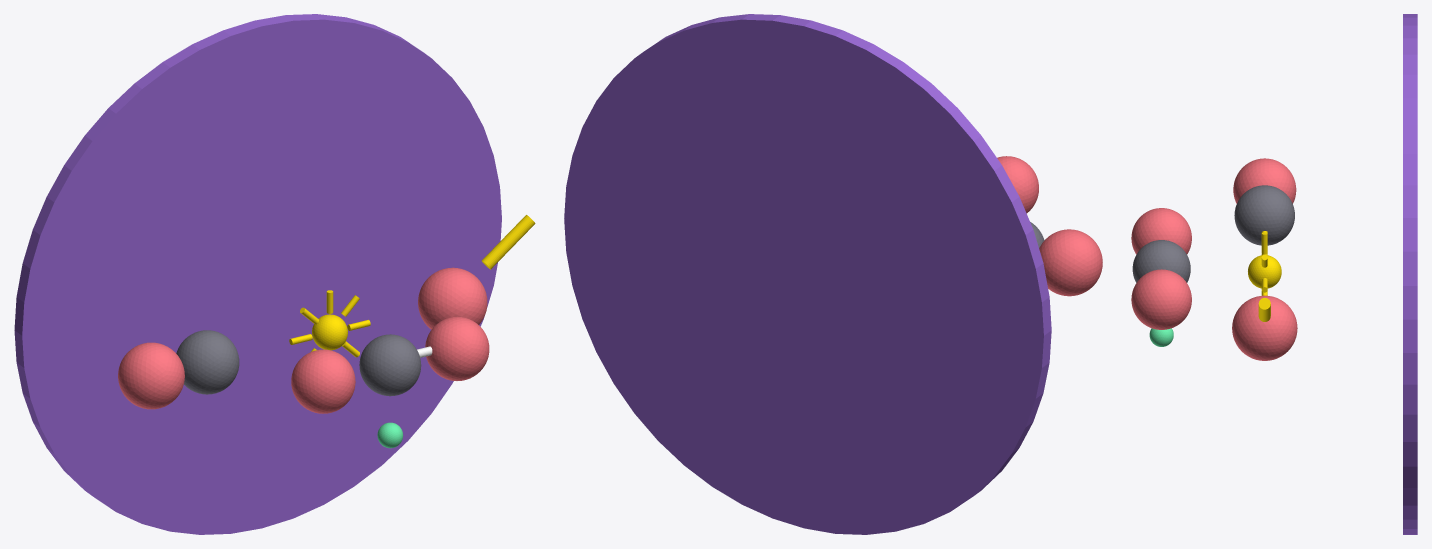
File: colisao_efetiva_CORRIGIDA_Q_LAB.glb
3 renders of one model, left to right at view 1: azimuth 30°, elevation 25°; view 2: azimuth 150°, elevation 25°; view 3: azimuth 270°, elevation 25°, orthographic. The views are drawn at different scales.
Parts seen in each view (by area): view 1: base, CO_O, produto_O1, produto_O2, O_incidente, CO_C, produto_C, energia_colisao, movimento; view 2: base, CO_O, produto_O1; view 3: base, O_incidente, produto_O2, CO_C, produto_O1, CO_O, produto_C, energia_colisao, reacao_ocorreu.
Part boxes in pixels (box(x1,y1,x2,y2)): base: box(14, 14, 501, 534); CO_O: box(118, 342, 184, 409); produto_O1: box(291, 349, 355, 413); produto_O2: box(425, 316, 489, 380); O_incidente: box(418, 267, 487, 329); CO_C: box(176, 330, 239, 394); produto_C: box(359, 334, 421, 396); energia_colisao: box(312, 314, 347, 350); movimento: box(481, 215, 535, 269); base: box(564, 14, 1051, 534); CO_O: box(1039, 229, 1102, 296); produto_O1: box(997, 156, 1038, 213); base: box(1403, 14, 1417, 534); O_incidente: box(1232, 295, 1297, 360); produto_O2: box(1131, 269, 1191, 329); CO_C: box(1234, 185, 1294, 245); produto_O1: box(1131, 208, 1191, 254); CO_O: box(1233, 158, 1296, 203); produto_C: box(1132, 240, 1190, 282); energia_colisao: box(1248, 255, 1281, 288); reacao_ocorreu: box(1149, 328, 1173, 346).
Bounding box in the file's own units: 0.43 × 0.43 × 0.236.
